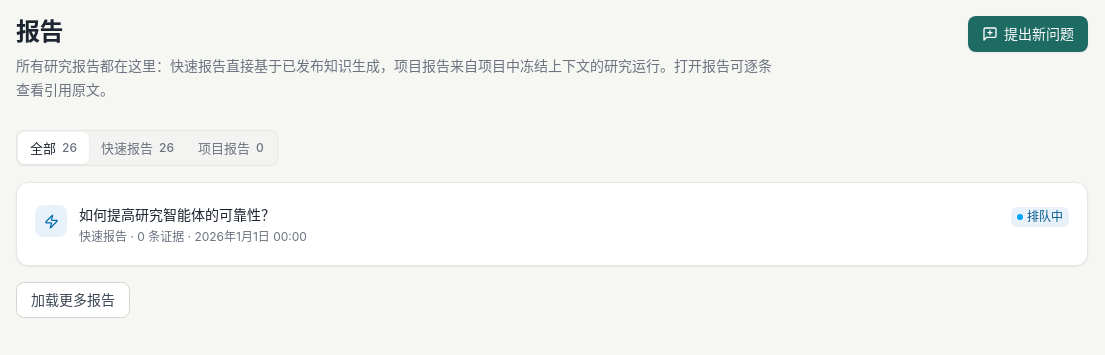
Test: browser acceptance states › loads more quick reports while preserving the full report count
Click the button "加载更多报告": (73, 300) [16, 282, 130, 318]
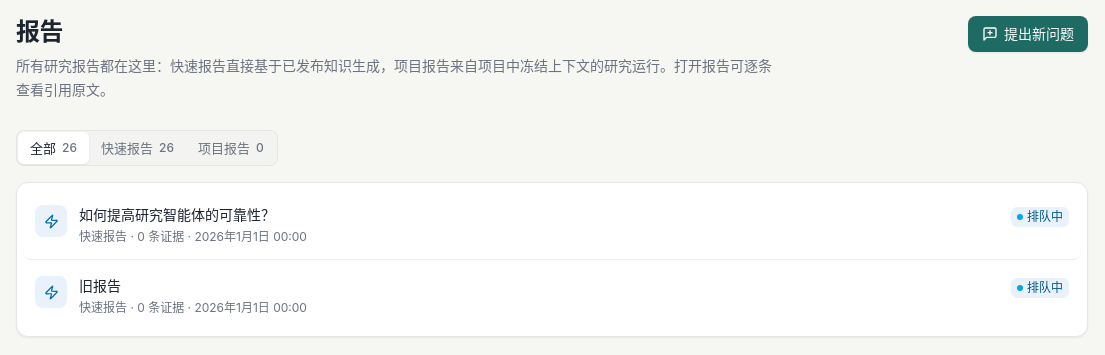
Expected: the button "快速报告 26" is shown, [89, 132, 186, 164]
Expected: the button "加载更多报告" is gone
